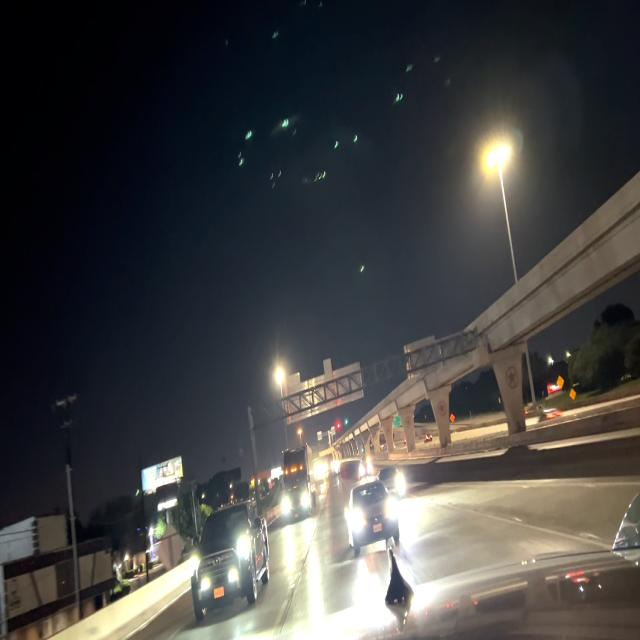back-of-sign: (282, 359, 364, 425), (401, 339, 448, 376)
